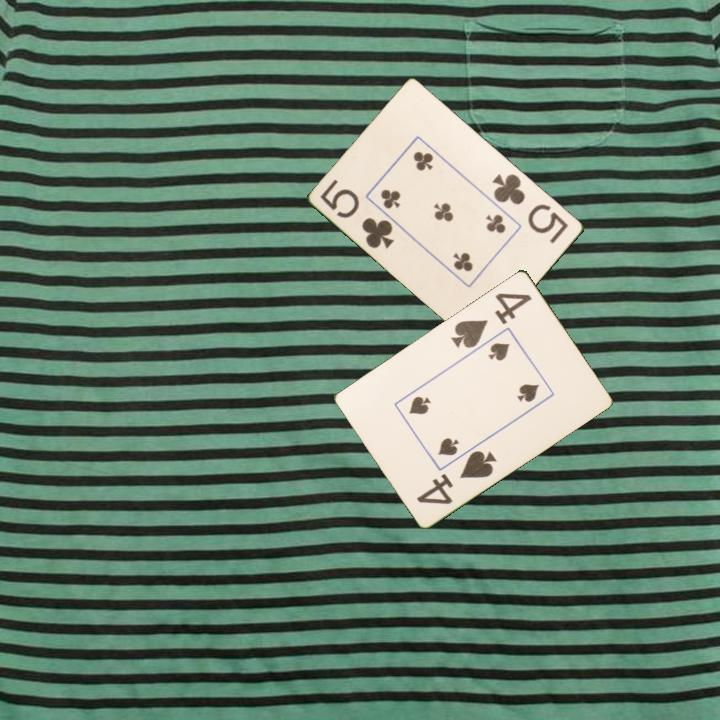4s: (448, 289, 535, 351), (413, 446, 500, 507)
5c: (488, 170, 571, 246), (316, 176, 397, 252)
